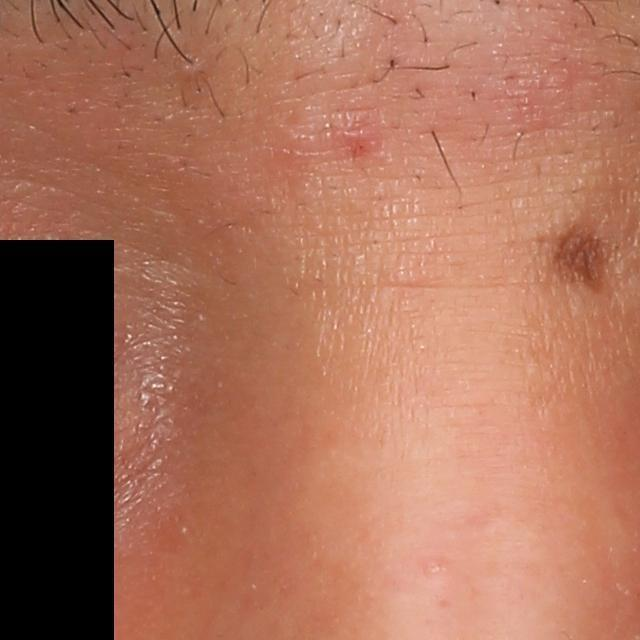nevus: (538, 217, 619, 316)
